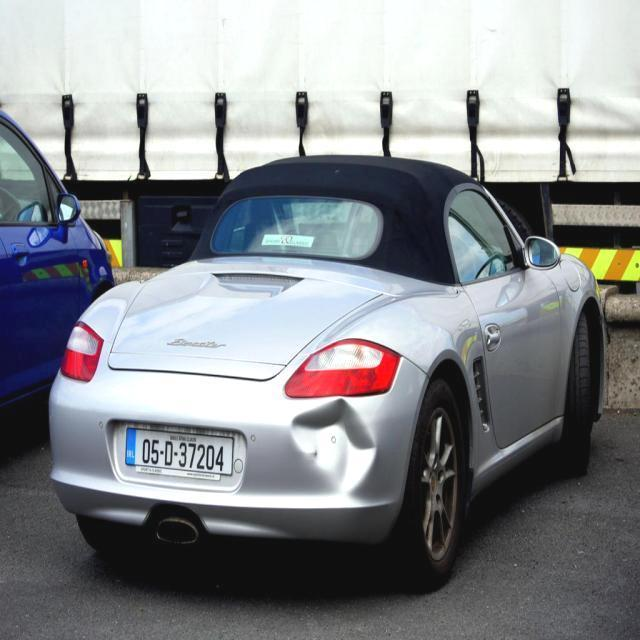minor: (291, 398, 374, 495)
